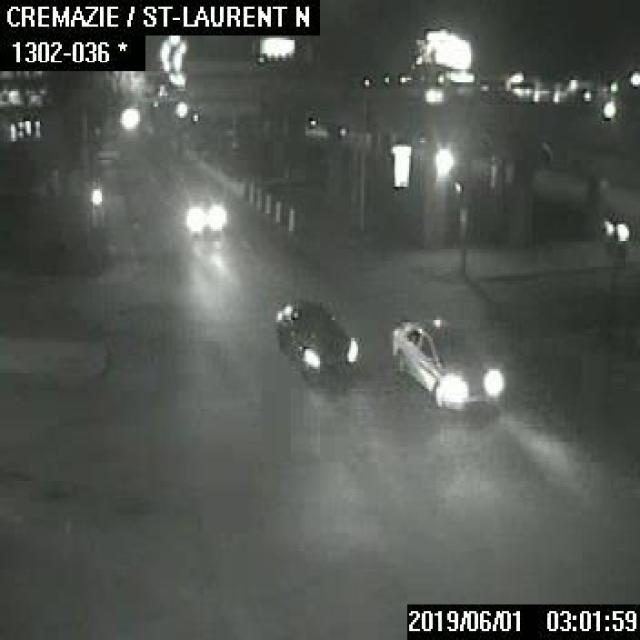construction: (285, 206, 293, 226), (263, 192, 270, 212), (246, 180, 253, 200), (273, 199, 280, 218), (254, 186, 260, 206)
vehicle: (387, 313, 504, 409), (269, 296, 362, 374), (176, 193, 224, 236)
